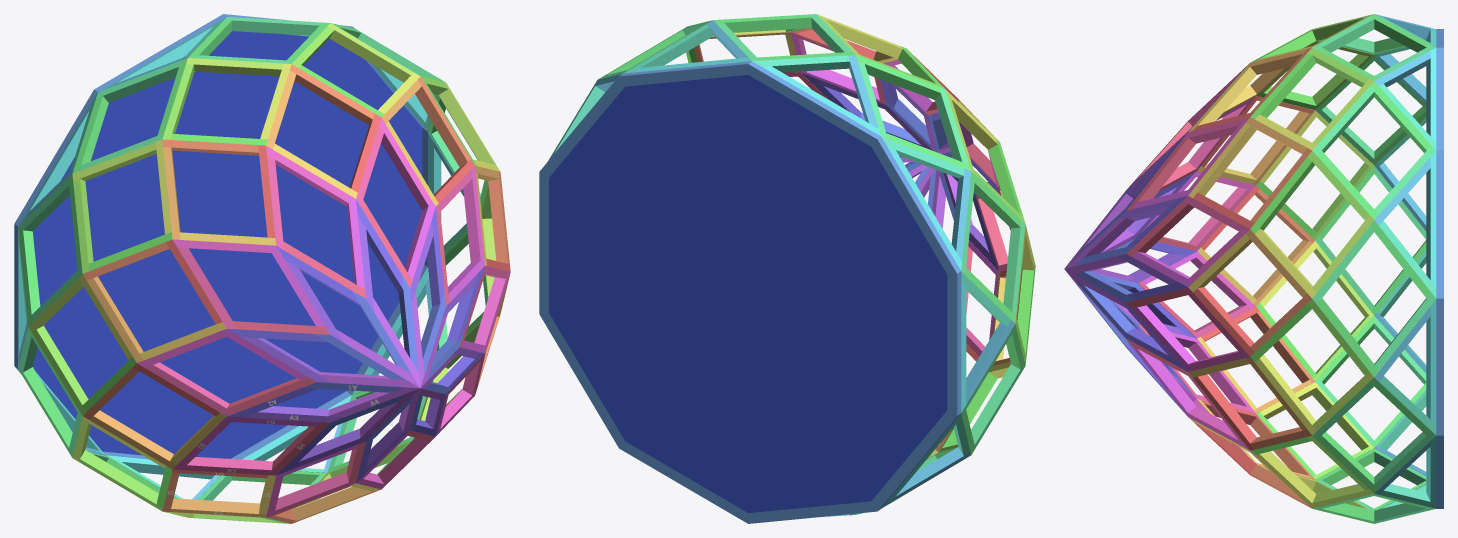
File: Z5omes_20240515_200617_N10NzQ3NQ_skeleton.obj
The picture shows the model from 3 angles, left to right: view 1: azimuth 30°, elevation 25°; view 2: azimuth 150°, elevation 25°; view 3: azimuth 270°, elevation 25°; orthographic projection. The views are drawn at different scales.
Visible parts, largest first — view 1: ⬢, E1_8, E2_7, E2_6, E1_7, E1_9, E2_8, D2_6, C2_6, D3_9, C3_10, C3_1 (+92 smaller); view 2: ⬢, ~1_7, ~1_6, ~1_8, ~1_5, E2_8, E1_7, E1_6, ~1_9, E2_7, E2_9, ~1_1 (+30 smaller); view 3: E2_5, E1_5, E1_4, E2_4, E1_3, E2_3, F2_4, F2_3, C4_6, C1_4, ~1_4, E2_6 (+98 smaller).
Boxes of the visible parts, <box> form: ⬢: <box>32,31,422,458</box>; E1_8: <box>19,174,81,326</box>; E2_7: <box>79,60,180,170</box>; E2_6: <box>196,17,322,63</box>; E1_7: <box>72,58,187,173</box>; E1_9: <box>22,327,78,457</box>; E2_8: <box>18,178,82,322</box>; D2_6: <box>328,23,413,82</box>; C2_6: <box>415,76,470,167</box>; D3_9: <box>32,325,88,415</box>; C3_10: <box>89,410,176,469</box>; C3_1: <box>170,498,266,517</box>; ⬢: <box>549,75,947,512</box>; ~1_7: <box>871,137,960,274</box>; ~1_6: <box>748,61,880,146</box>; ~1_8: <box>947,271,961,415</box>; ~1_5: <box>619,61,751,86</box>; E2_8: <box>961,179,1025,315</box>; E1_7: <box>856,55,970,170</box>; E1_6: <box>713,14,855,60</box>; ~1_9: <box>871,410,960,511</box>; E2_7: <box>858,61,969,164</box>; E2_9: <box>961,331,1025,447</box>; ~1_1: <box>619,441,748,523</box>; E2_5: <box>1312,86,1435,214</box>; E1_5: <box>1317,81,1431,219</box>; E1_4: <box>1317,220,1431,377</box>; E2_4: <box>1312,226,1435,370</box>; E1_3: <box>1317,377,1431,493</box>; E2_3: <box>1312,382,1435,488</box>; F2_4: <box>1426,151,1436,286</box>; F2_3: <box>1426,299,1436,424</box>; C4_6: <box>1188,123,1256,197</box>; C1_4: <box>1193,374,1256,450</box>; ~1_4: <box>1436,150,1443,298</box>; E2_6: <box>1312,16,1435,78</box>.
Bounding box in the file's own units: 2734 × 2602 × 2020.
